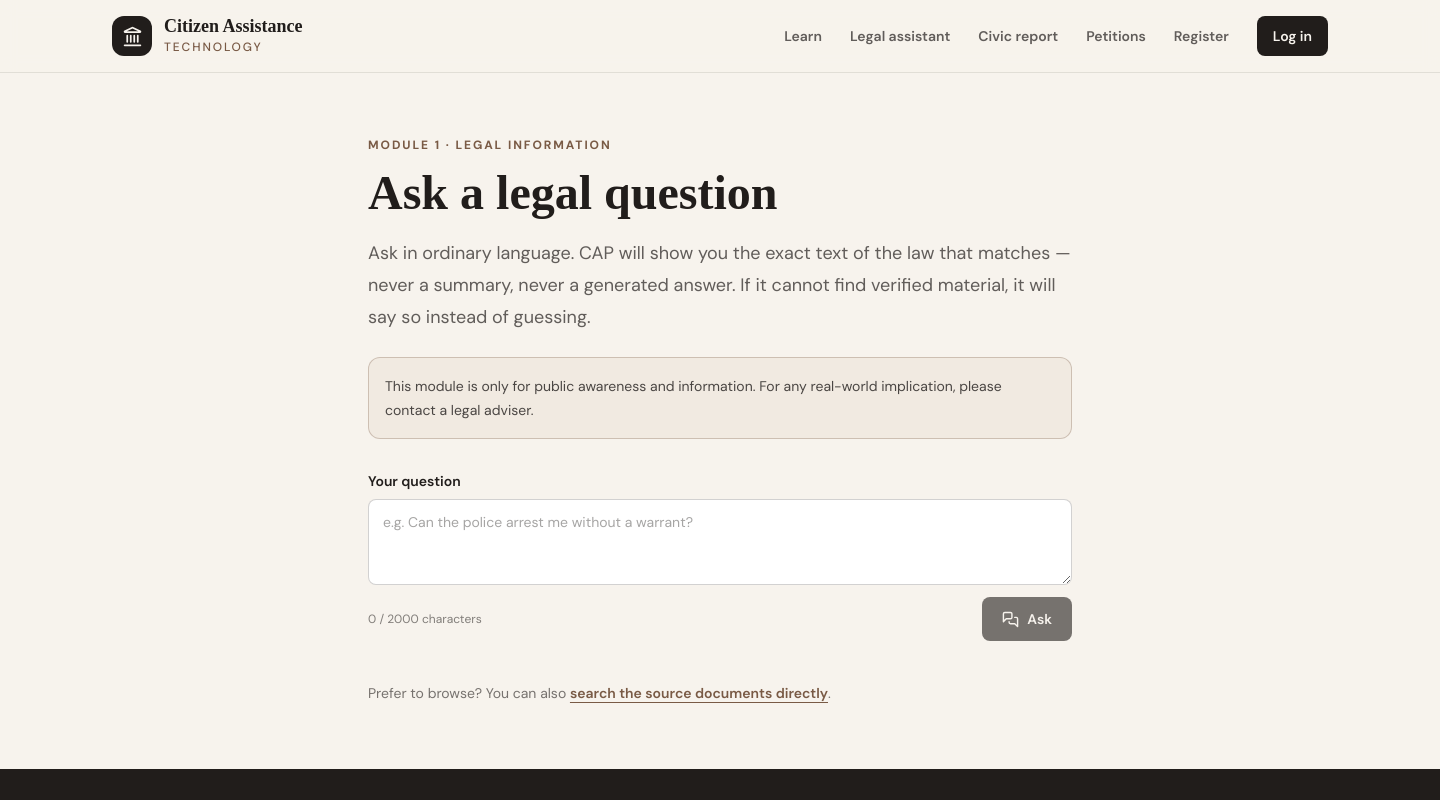
Test: LegalAssistantPage › leads a serious matter with the caution and shows the cited law underneath
The width and height of the screenshot is (1440, 800).
Type "I was arrested yesterday, what should I do?" into the text box labelled "Your question". click: (720, 542)
box: [368,499,1072,585]
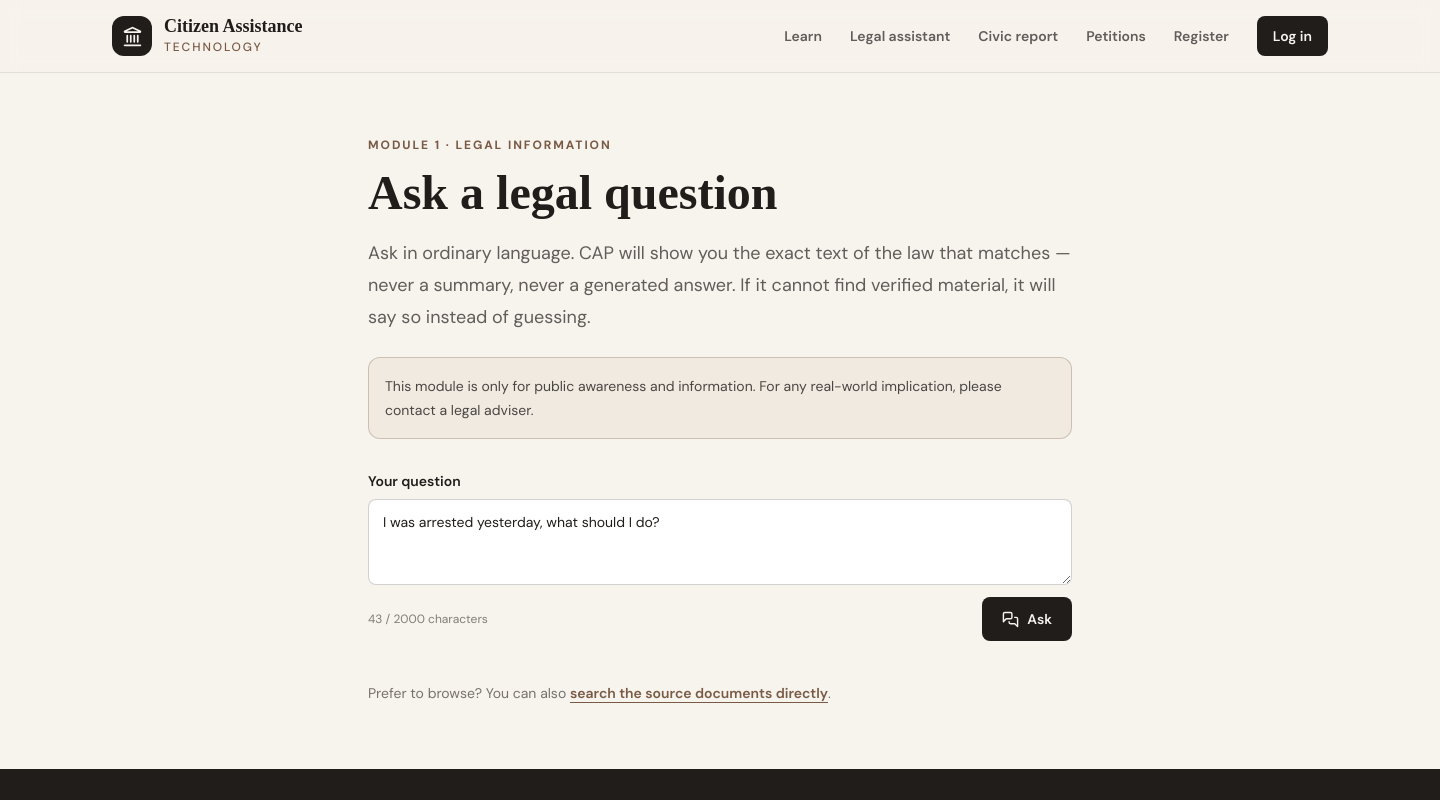
Click the button "Ask". click: (1027, 619)
box: [982,597,1072,641]
(page scrolled)
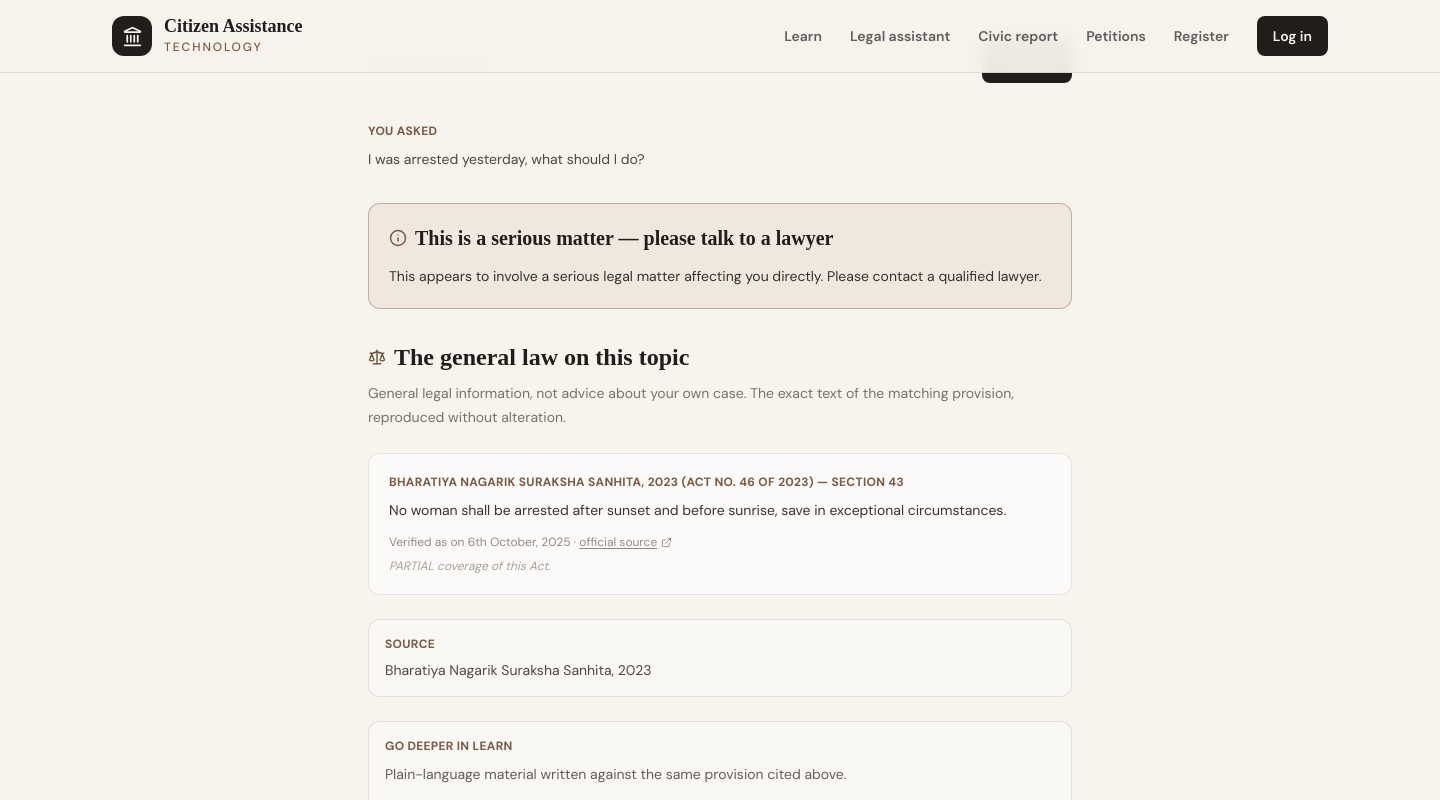
Expected: the heading "This is a serious matter — please talk to a lawyer" is shown, [415,224,834,252]
Expected: the text "contact a qualified lawyer" is shown, [389,267,1041,285]
Expected: the heading "The general law on this topic" is shown, [394,341,689,373]
